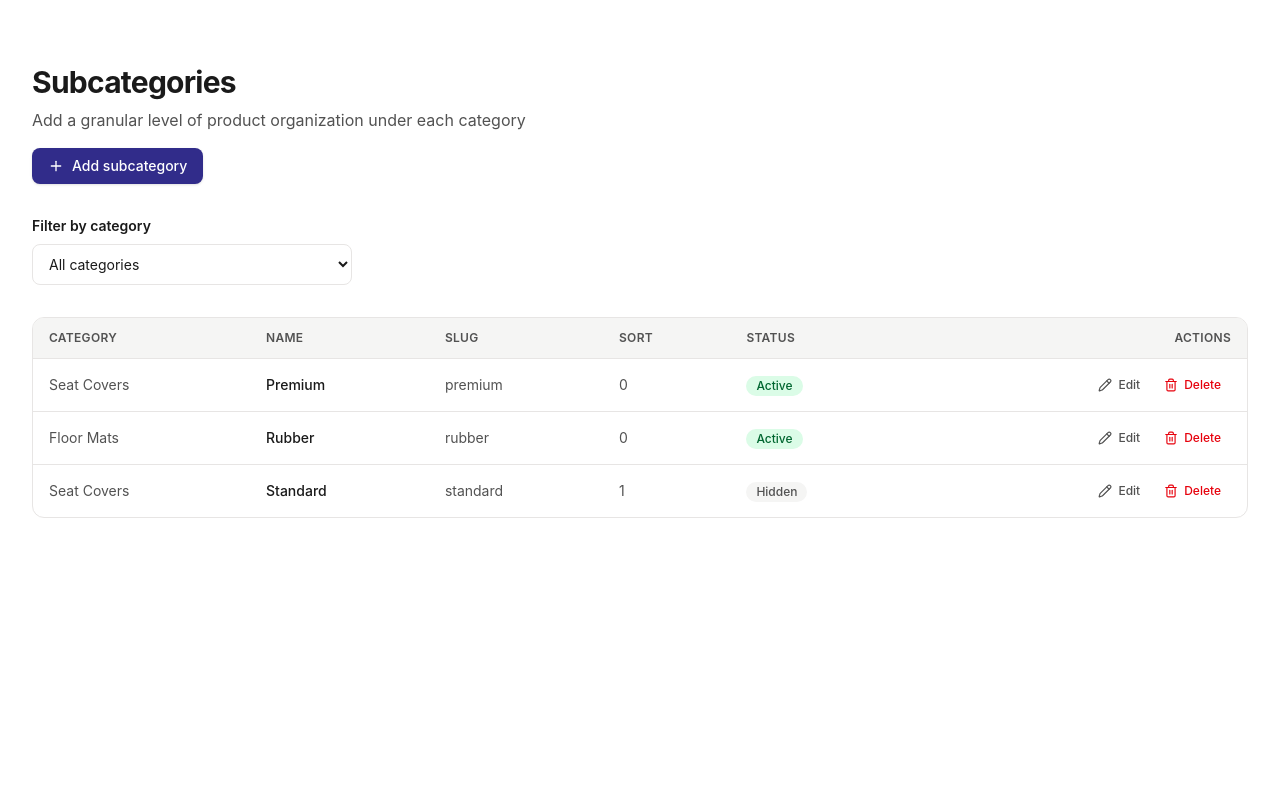
it: SubcategoriesAdminPage › edits a subcategory
The width and height of the screenshot is (1280, 800).
Expected: the text "Premium" is shown, [250, 358, 429, 412]
Click the 1st button "Edit" at point(1119, 385), box [1088, 371, 1150, 399]
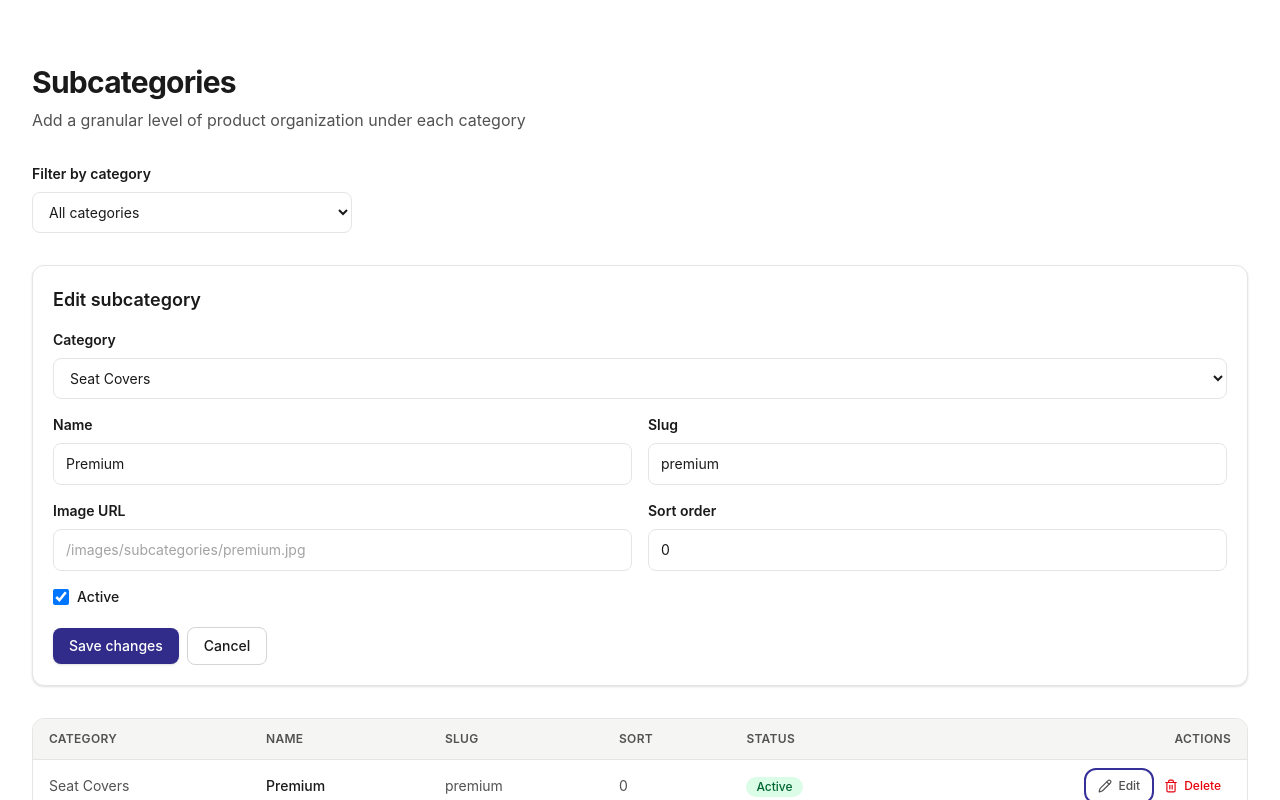
Expected: the field labelled "Name" holds "Premium"
Replace the text in the field labelled "Name" with "Premium Plus" at point(342, 464), box [53, 443, 632, 485]
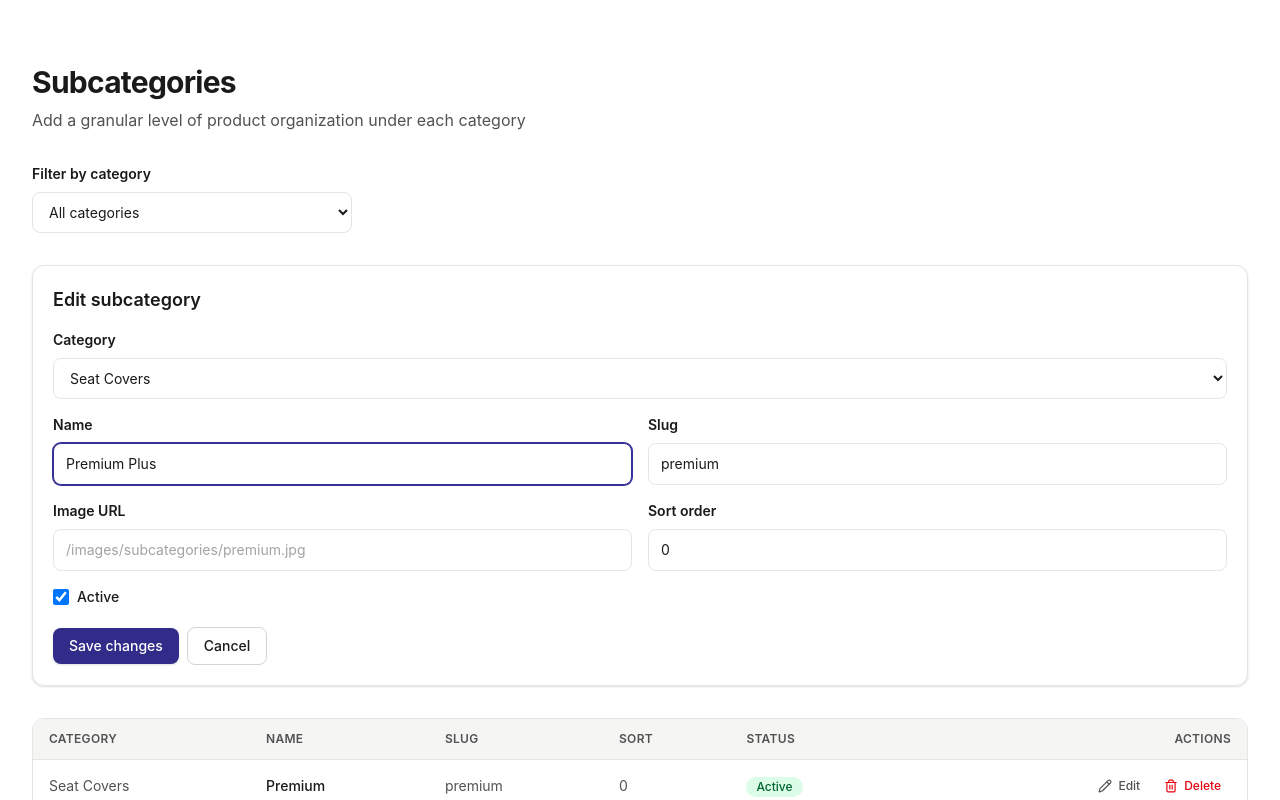
Click the button "Save changes" at point(116, 646), box [53, 628, 179, 664]
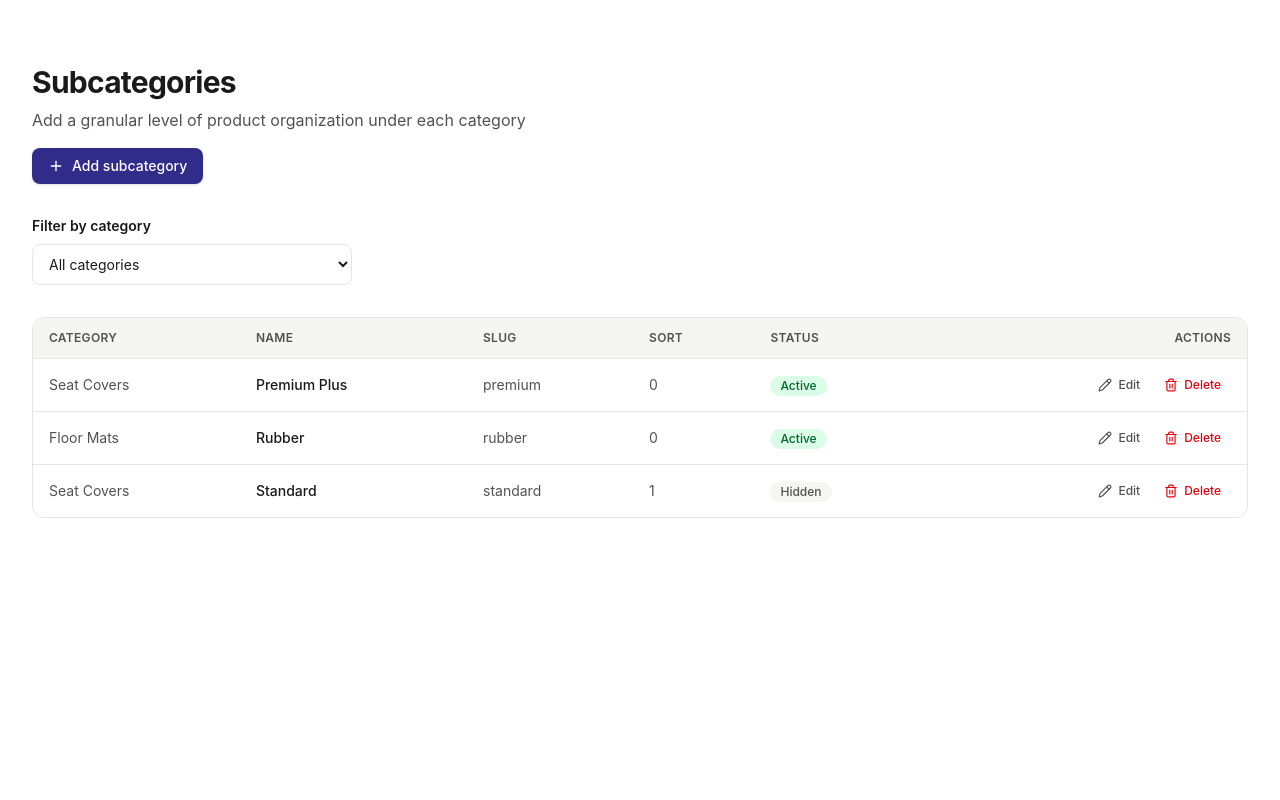
Expected: the row "Seat Covers Premium Plus premium 0 Active Edit Delete" is shown, [33, 358, 1247, 412]
